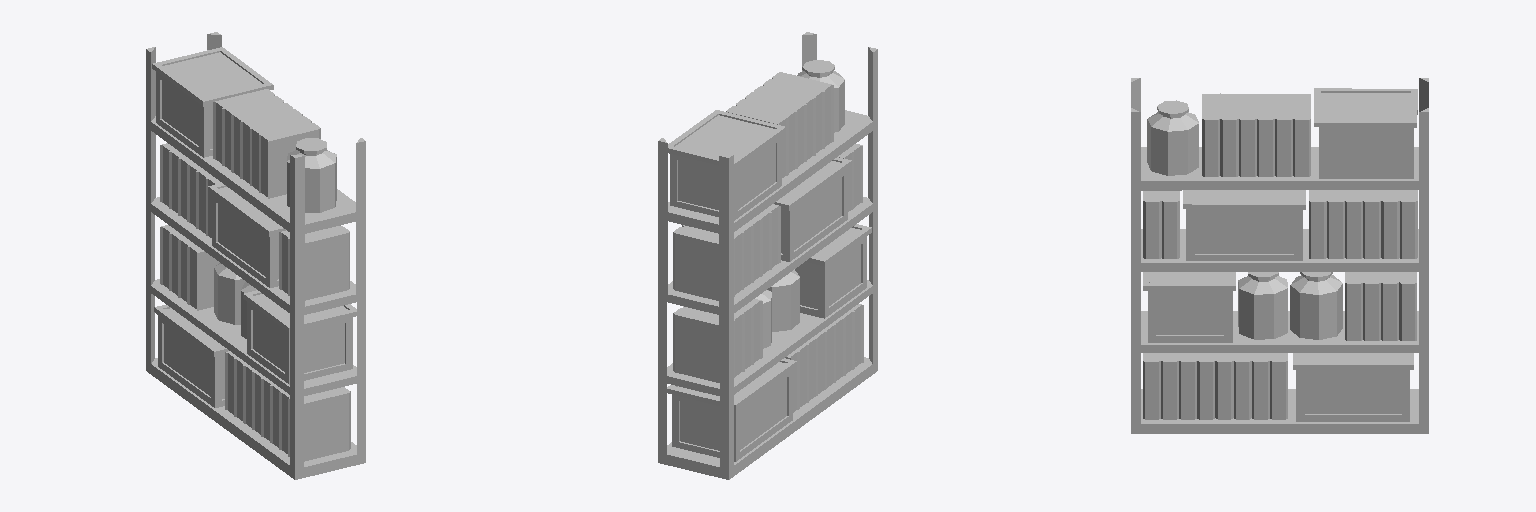
Rendered from shelf1_test.obj.
3 views of the same model, side by side, from view 1: azimuth 30°, elevation 25°; view 2: azimuth 150°, elevation 25°; view 3: azimuth 270°, elevation 25° (orthographic).
Parts seen in each view (by area): view 1: shelflowpoly_comb1_finsihed; view 2: shelflowpoly_comb1_finsihed; view 3: shelflowpoly_comb1_finsihed.
Boxes of the visible parts, <box> form: shelflowpoly_comb1_finsihed: <box>146,32,365,479</box>; shelflowpoly_comb1_finsihed: <box>658,32,877,479</box>; shelflowpoly_comb1_finsihed: <box>1131,78,1428,433</box>.
Size of the model in its own units: 2.51 by 10.89 by 9.13.